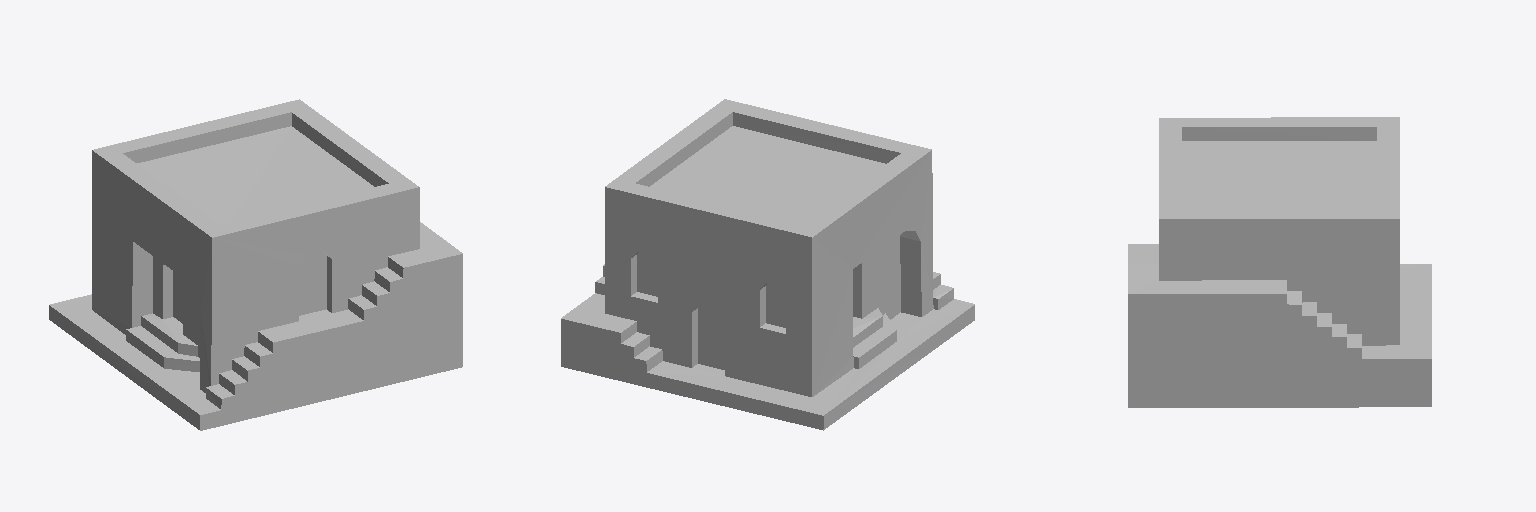
Rendered from baseBlock.obj.
3 views of the same model, side by side, from view 1: azimuth 30°, elevation 25°; view 2: azimuth 150°, elevation 25°; view 3: azimuth 270°, elevation 25° (orthographic).
Visible parts, largest first — view 1: BuildingBlock01.002; view 2: BuildingBlock01.002; view 3: BuildingBlock01.002.
Part boxes in pixels (x1,y1,x2,y2): BuildingBlock01.002: (49, 99, 462, 430); BuildingBlock01.002: (561, 99, 974, 430); BuildingBlock01.002: (1128, 117, 1431, 407).
Bounding box in the file's own units: 6.43 × 4.1 × 6.43.